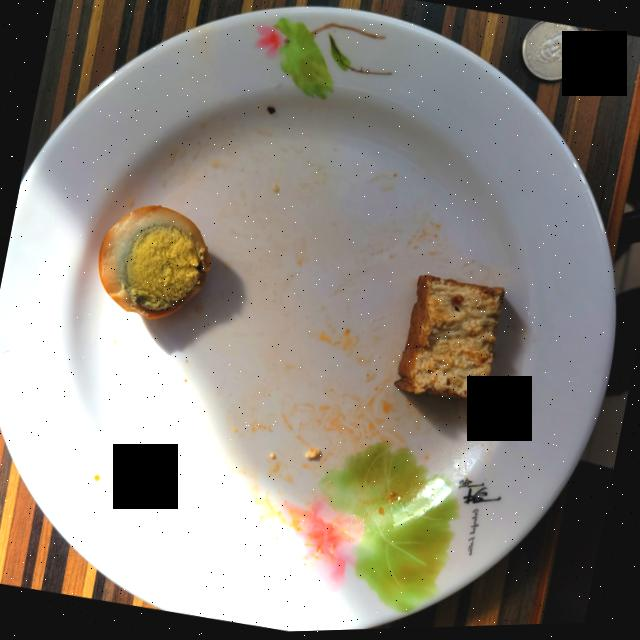coin: (522, 25, 585, 85)
egg tofu: (394, 278, 505, 409)
soy egg: (99, 207, 210, 320)
